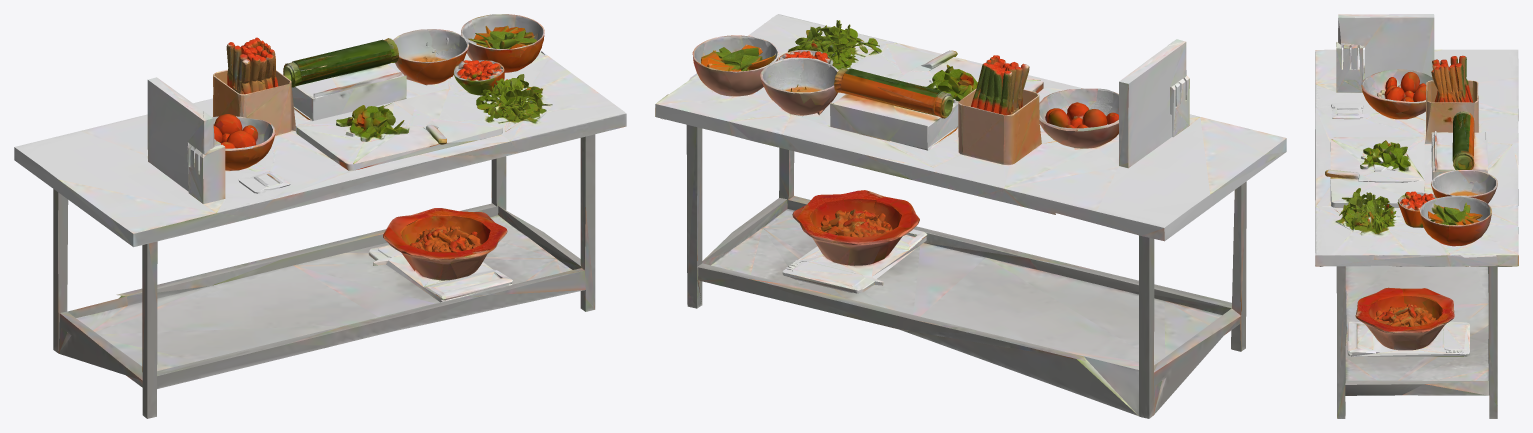
The model's file is srvPrep.glb.
3 renders of one model, left to right at view 1: azimuth 30°, elevation 25°; view 2: azimuth 150°, elevation 25°; view 3: azimuth 270°, elevation 25°, orthographic. The views are drawn at different scales.
Bounding box in the file's own units: 1.9 × 1.05 × 0.7942.
Materials: 1 (1 with a texture image).
